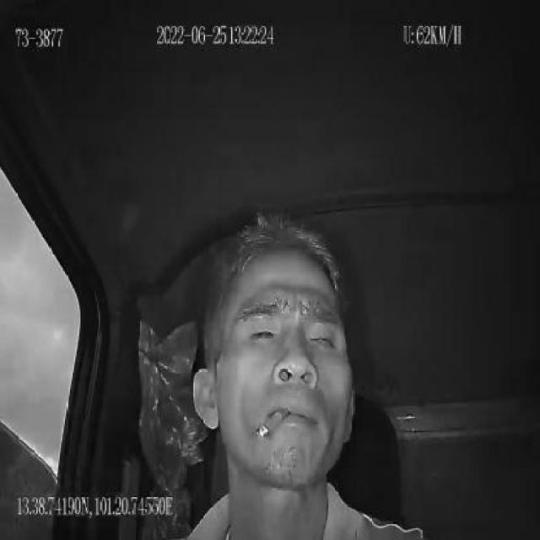smoking: (255, 407, 289, 442)
